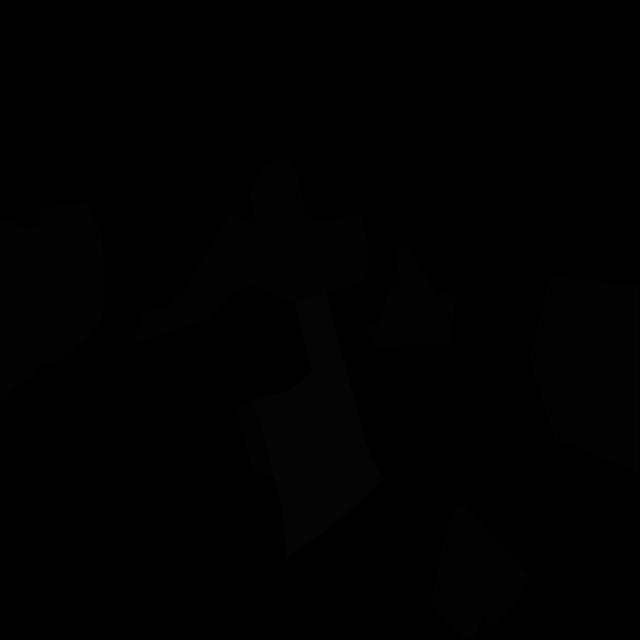cardboard: (134, 212, 306, 343), (530, 275, 639, 474), (0, 200, 104, 406), (248, 158, 370, 298), (430, 503, 530, 639), (364, 247, 458, 348), (234, 399, 273, 477)
soft_plastic: (253, 294, 384, 559)
